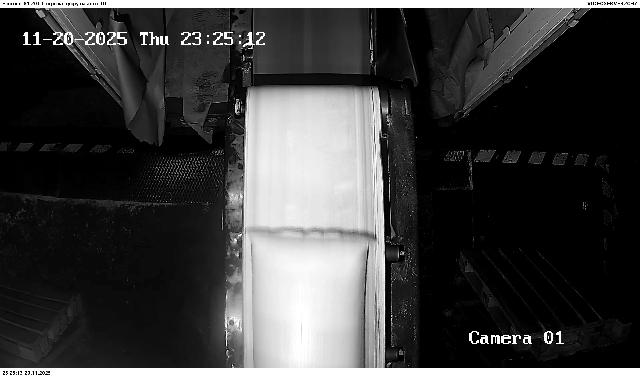bag: (248, 228, 374, 368)
